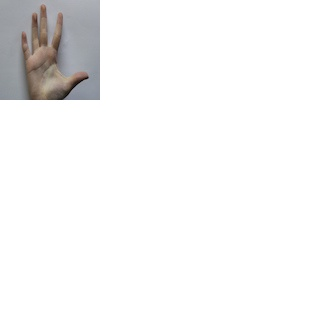paper: (15, 2, 90, 100)
